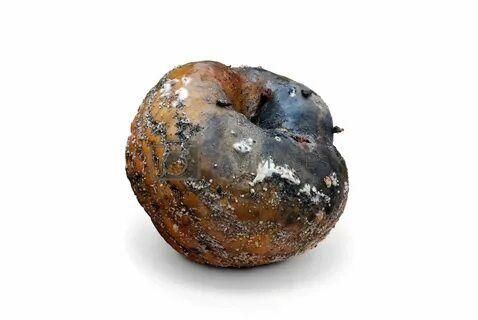Apple: (126, 62, 348, 268)
